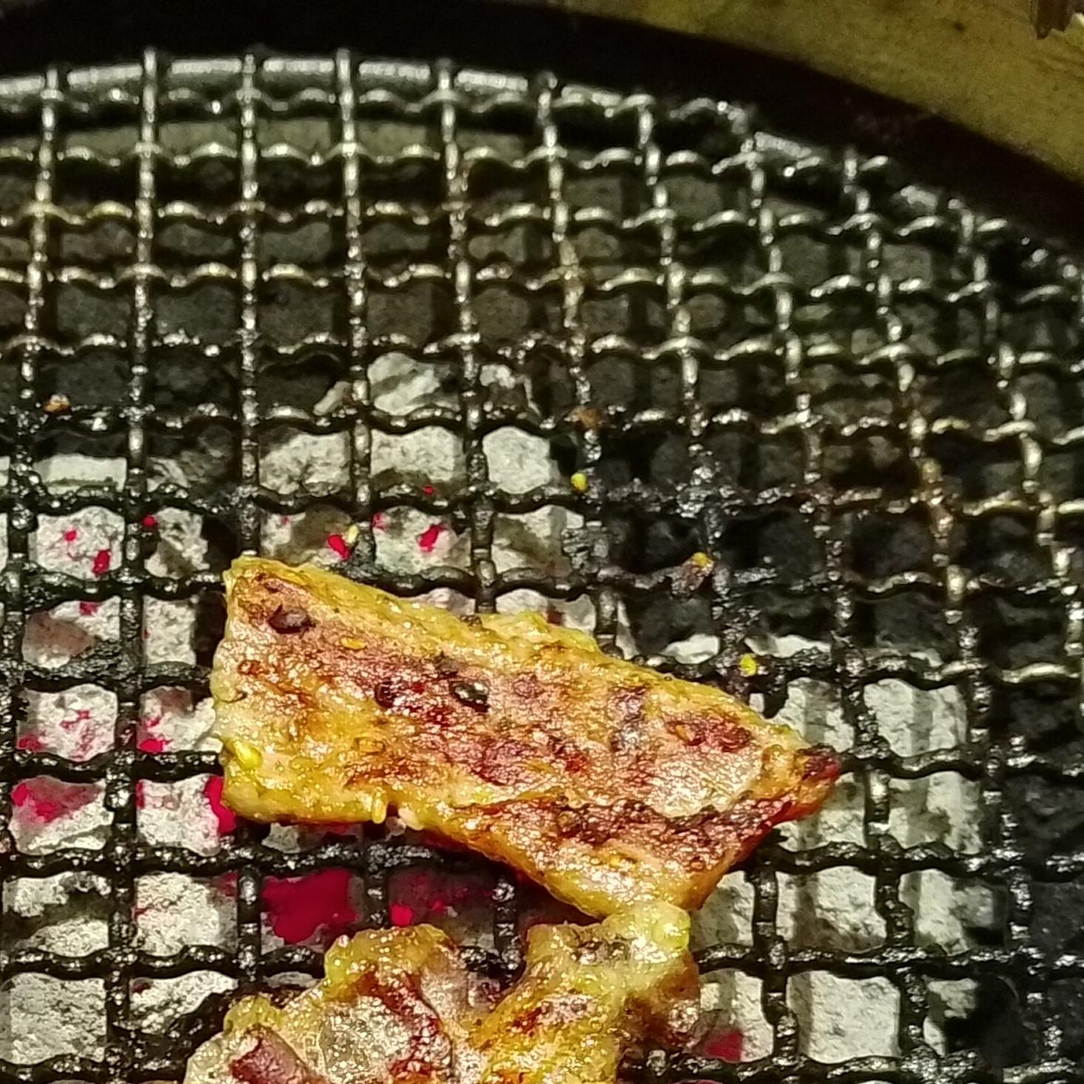Overcooked: (211, 555, 844, 1083)
